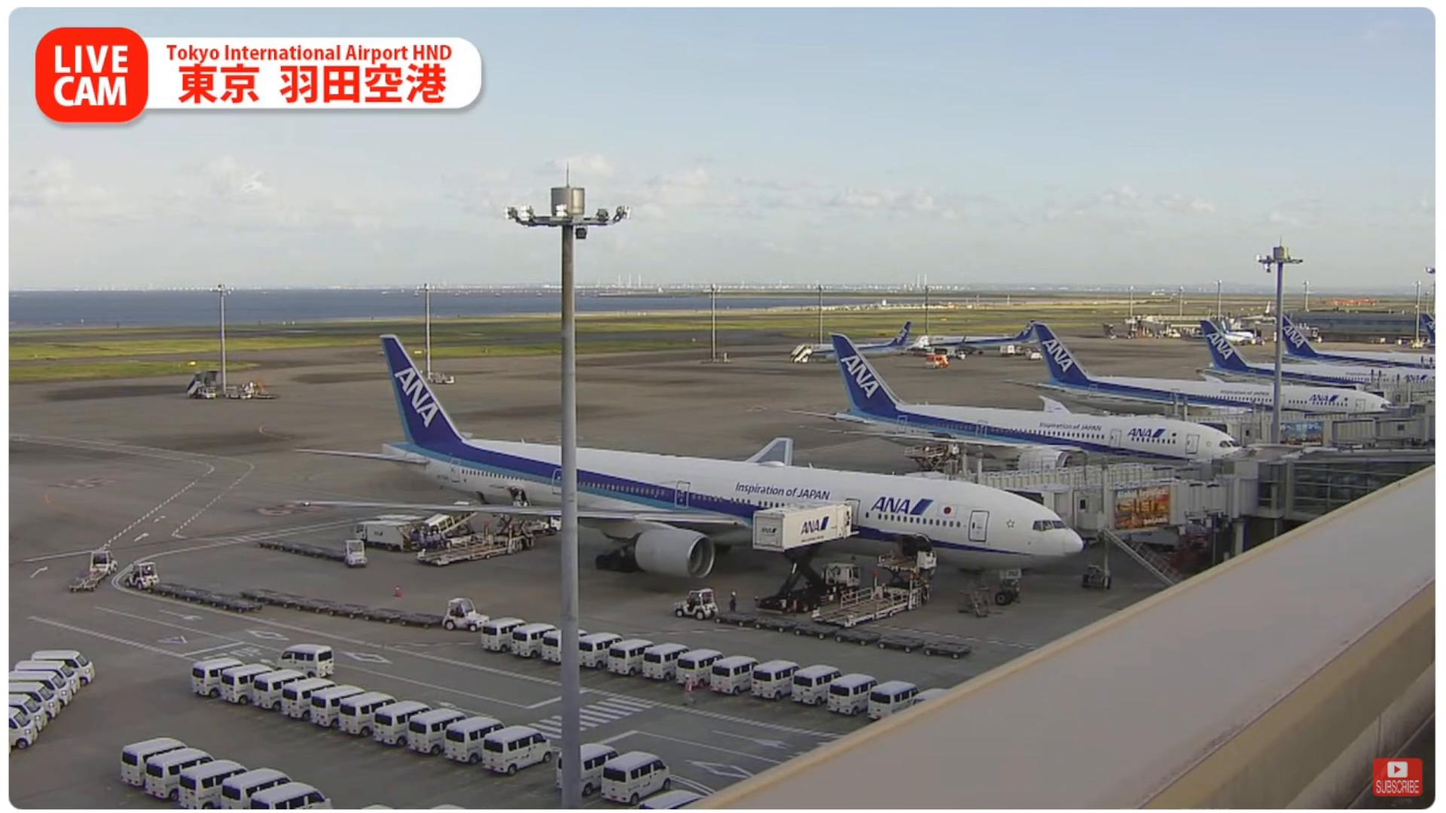Aerobridge: (990, 474, 1217, 523), (903, 458, 1204, 486)
Airplane: (297, 333, 1082, 582)
Baggage truck: (350, 518, 412, 549), (381, 512, 423, 541)
Catering: (751, 501, 860, 615)
Dolly: (710, 610, 974, 660), (241, 588, 446, 629), (144, 582, 263, 612), (260, 538, 345, 561), (70, 568, 108, 592)
JCPL: (819, 550, 928, 632), (369, 528, 510, 572)
Skyloader: (420, 510, 487, 544)
Tractor: (442, 596, 493, 632), (678, 586, 726, 620), (123, 563, 161, 587), (342, 539, 374, 566), (89, 548, 119, 576)
Window: (1253, 443, 1435, 520)
